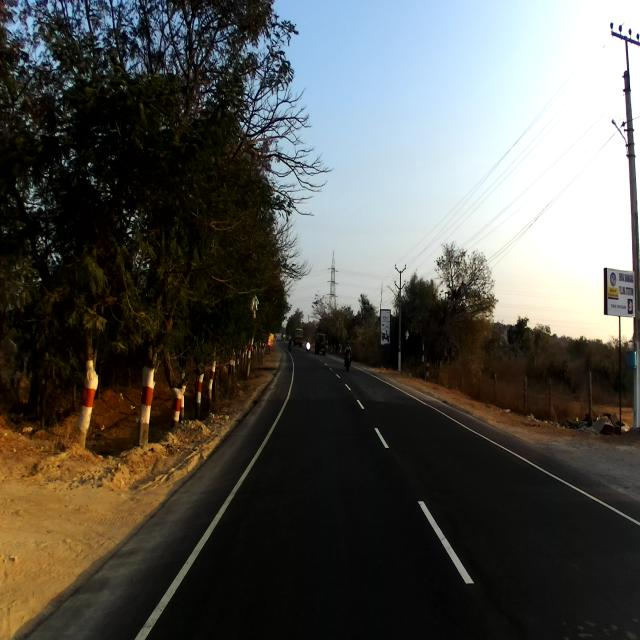tree ahead at: (70, 356, 102, 453), (136, 366, 157, 448), (167, 380, 185, 441)
